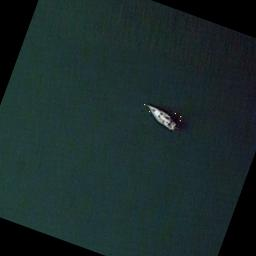boat: (139, 101, 183, 134)
